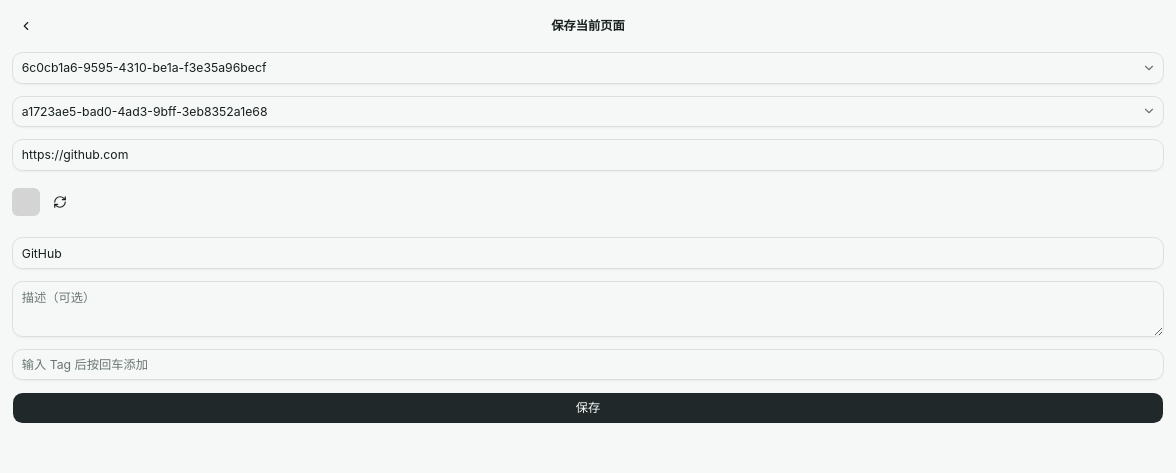
SaveBookmarkView › 提供 Tag 多选输入：输入合法 Tag + 回车 → 添加为 Badge
The width and height of the screenshot is (1176, 473).
Expected: the field showing "https://github.com" is shown, top-left (12, 139), bottom-right (1164, 170)
In the field with placeholder "输入 Tag 后按回车添加": (588, 365) top-left (12, 349), bottom-right (1164, 380), type "React"
Then press Enter
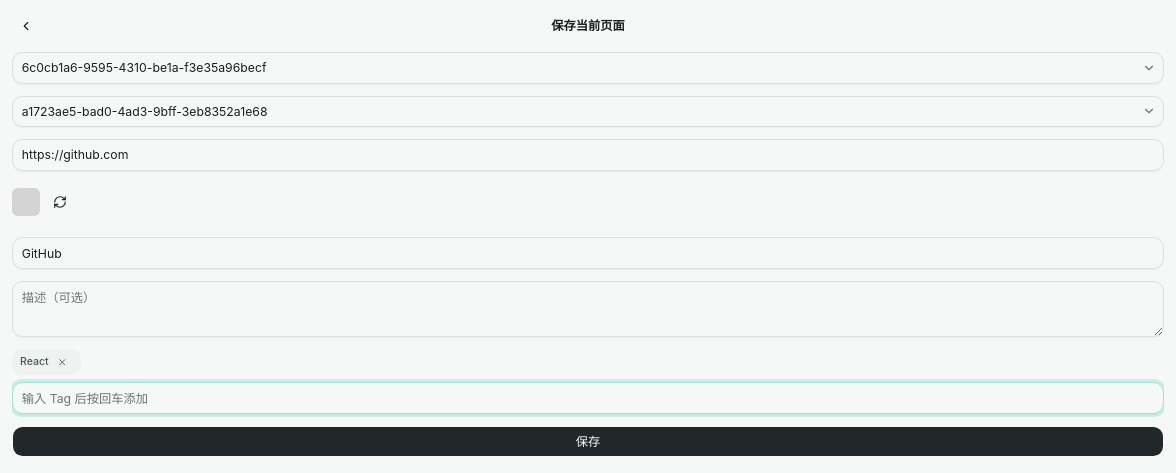
Now the text "React" is shown, box top-left (12, 349), bottom-right (81, 375)
